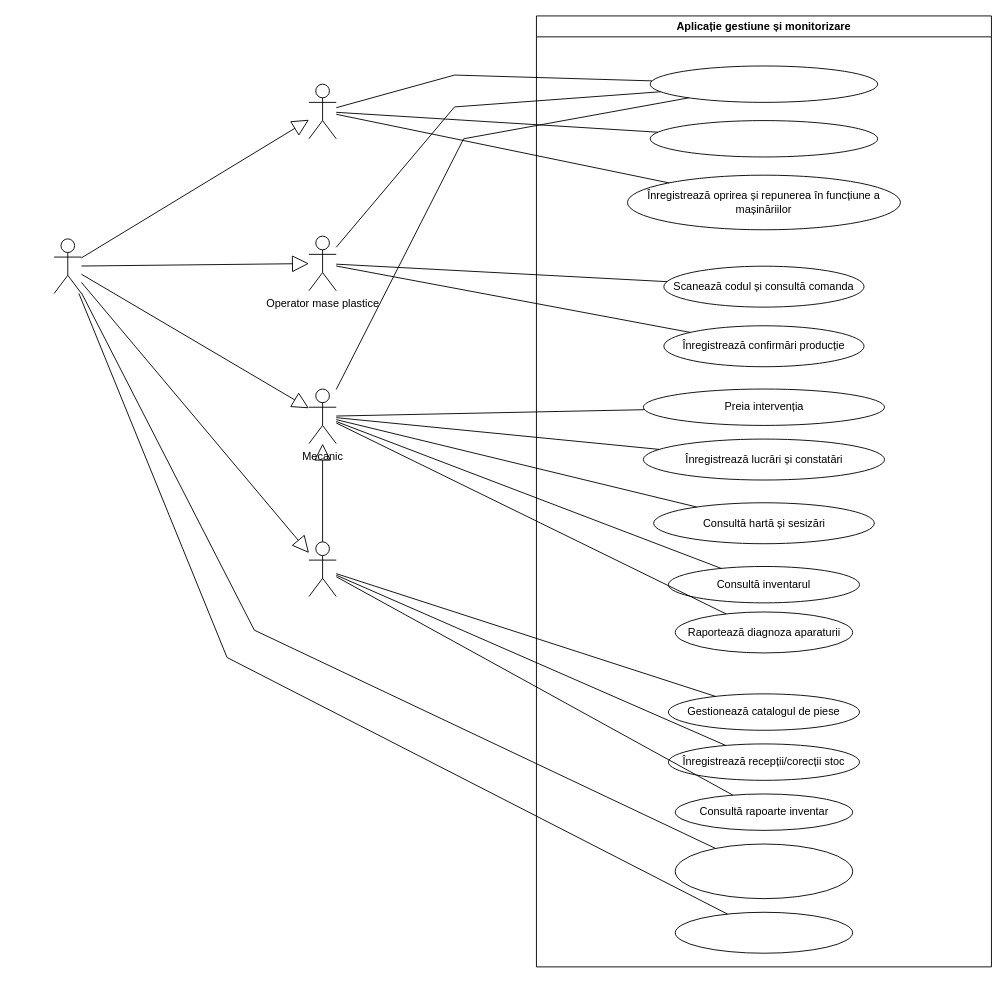
This 1007x983 diagram has some shape labels left out. The box of each missing label's shape, as (x1, y1, x2, y2) in pixels:
Administrator general: (53, 238, 81, 293)
Administrator Mentenanță: (308, 541, 336, 597)
Gestionează conturi și drepturi: (674, 911, 853, 953)
Operator CNC: (308, 83, 336, 139)
Raportează problema: (649, 120, 878, 157)
Se autentifică în cont: (649, 65, 878, 102)
Stabilește praguri minime pentru stoc: (674, 843, 853, 899)
